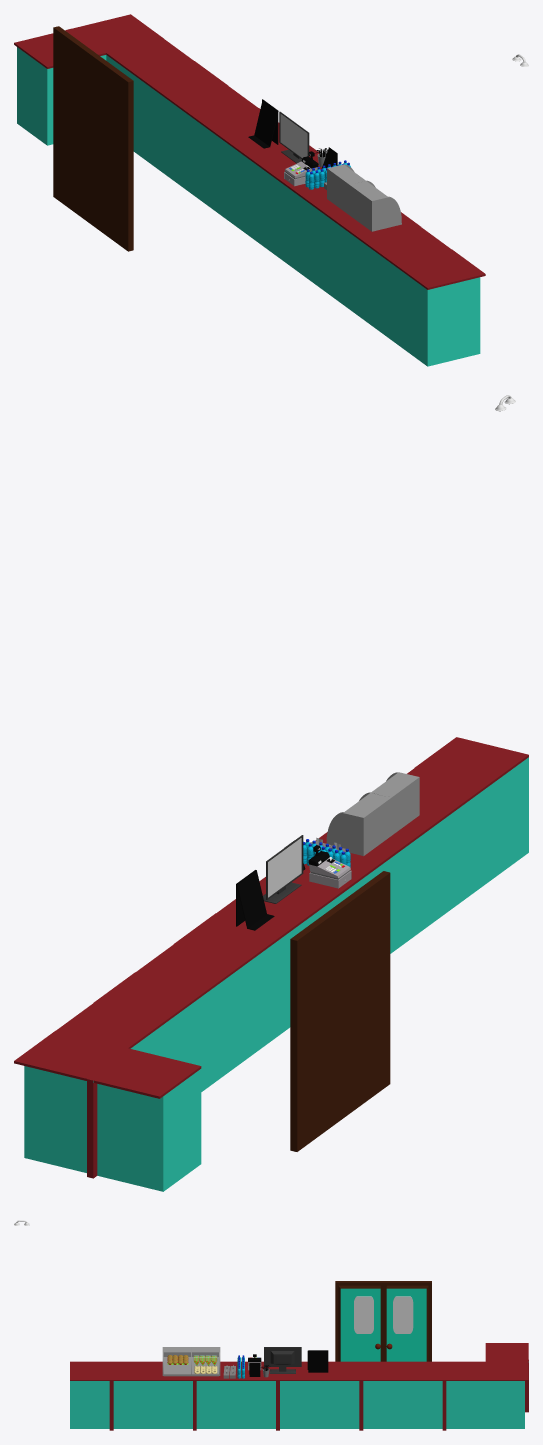
File: kasir.fbx
3 views of the same model, one above another, from view 1: azimuth 30°, elevation 25°; view 2: azimuth 150°, elevation 25°; view 3: azimuth 270°, elevation 25° (orthographic). The views are drawn at different scales.
Parts seen in each view (by area): view 1: Cube.008, Cube.014, Cube.009, Cube.006, Cube.010, Cube.012, Cube.011; view 2: Cube.008, Cube.009, Cube.014, Cube.006, Cube.010, Cube.012, Cube.011; view 3: Cube.008, Cube.014, Cube.009, Cube.006, Cube.010, Plane.066, Plane.065, Cube.012.
Boxes of the visible parts, x1=… form: Cube.008: x1=106, y1=39, x2=485, y2=366; Cube.014: x1=53, y1=26, x2=133, y2=251; Cube.009: x1=14, y1=14, x2=163, y2=145; Cube.006: x1=327, y1=164, x2=401, y2=231; Cube.010: x1=279, y1=111, x2=309, y2=163; Cube.012: x1=248, y1=99, x2=278, y2=148; Cube.011: x1=284, y1=151, x2=318, y2=186; Cube.008: x1=56, y1=737, x2=528, y2=1091; Cube.009: x1=14, y1=1030, x2=201, y2=1191; Cube.014: x1=290, y1=871, x2=390, y2=1151; Cube.006: x1=326, y1=772, x2=419, y2=855; Cube.010: x1=263, y1=835, x2=303, y2=903; Cube.012: x1=236, y1=870, x2=274, y2=930; Cube.011: x1=308, y1=845, x2=351, y2=888; Cube.008: x1=70, y1=1361, x2=485, y2=1430; Cube.014: x1=335, y1=1281, x2=431, y2=1361; Cube.009: x1=485, y1=1343, x2=528, y2=1428; Cube.006: x1=162, y1=1347, x2=220, y2=1376; Cube.010: x1=264, y1=1347, x2=301, y2=1373; Plane.066: x1=393, y1=1296, x2=413, y2=1333; Plane.065: x1=354, y1=1296, x2=373, y2=1333; Cube.012: x1=307, y1=1350, x2=328, y2=1372.
Size of the model in its own units: 1137 by 2374 by 5091.
